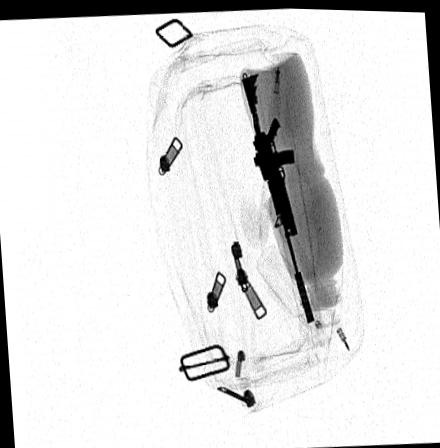Gun: (240, 68, 317, 323)
